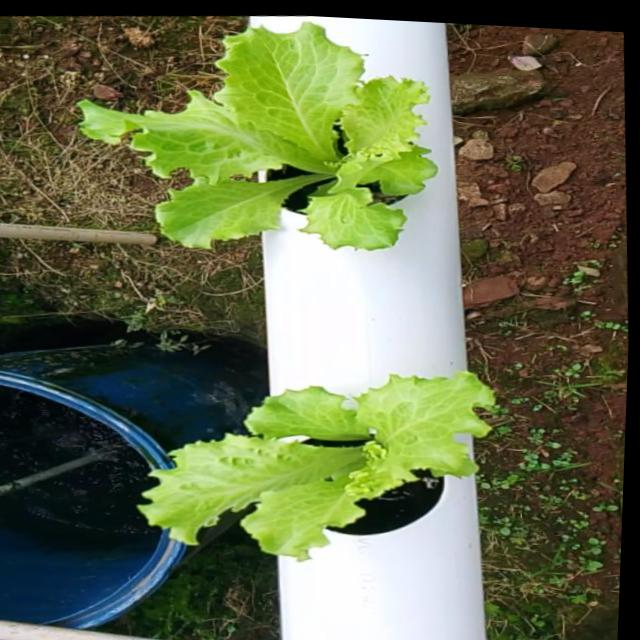Baby: (79, 27, 436, 258), (131, 384, 492, 575)
